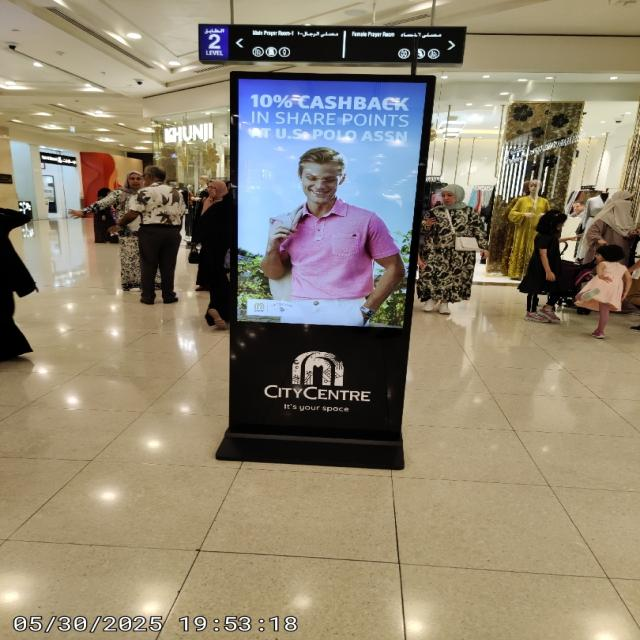mupi: (228, 74, 437, 442)
